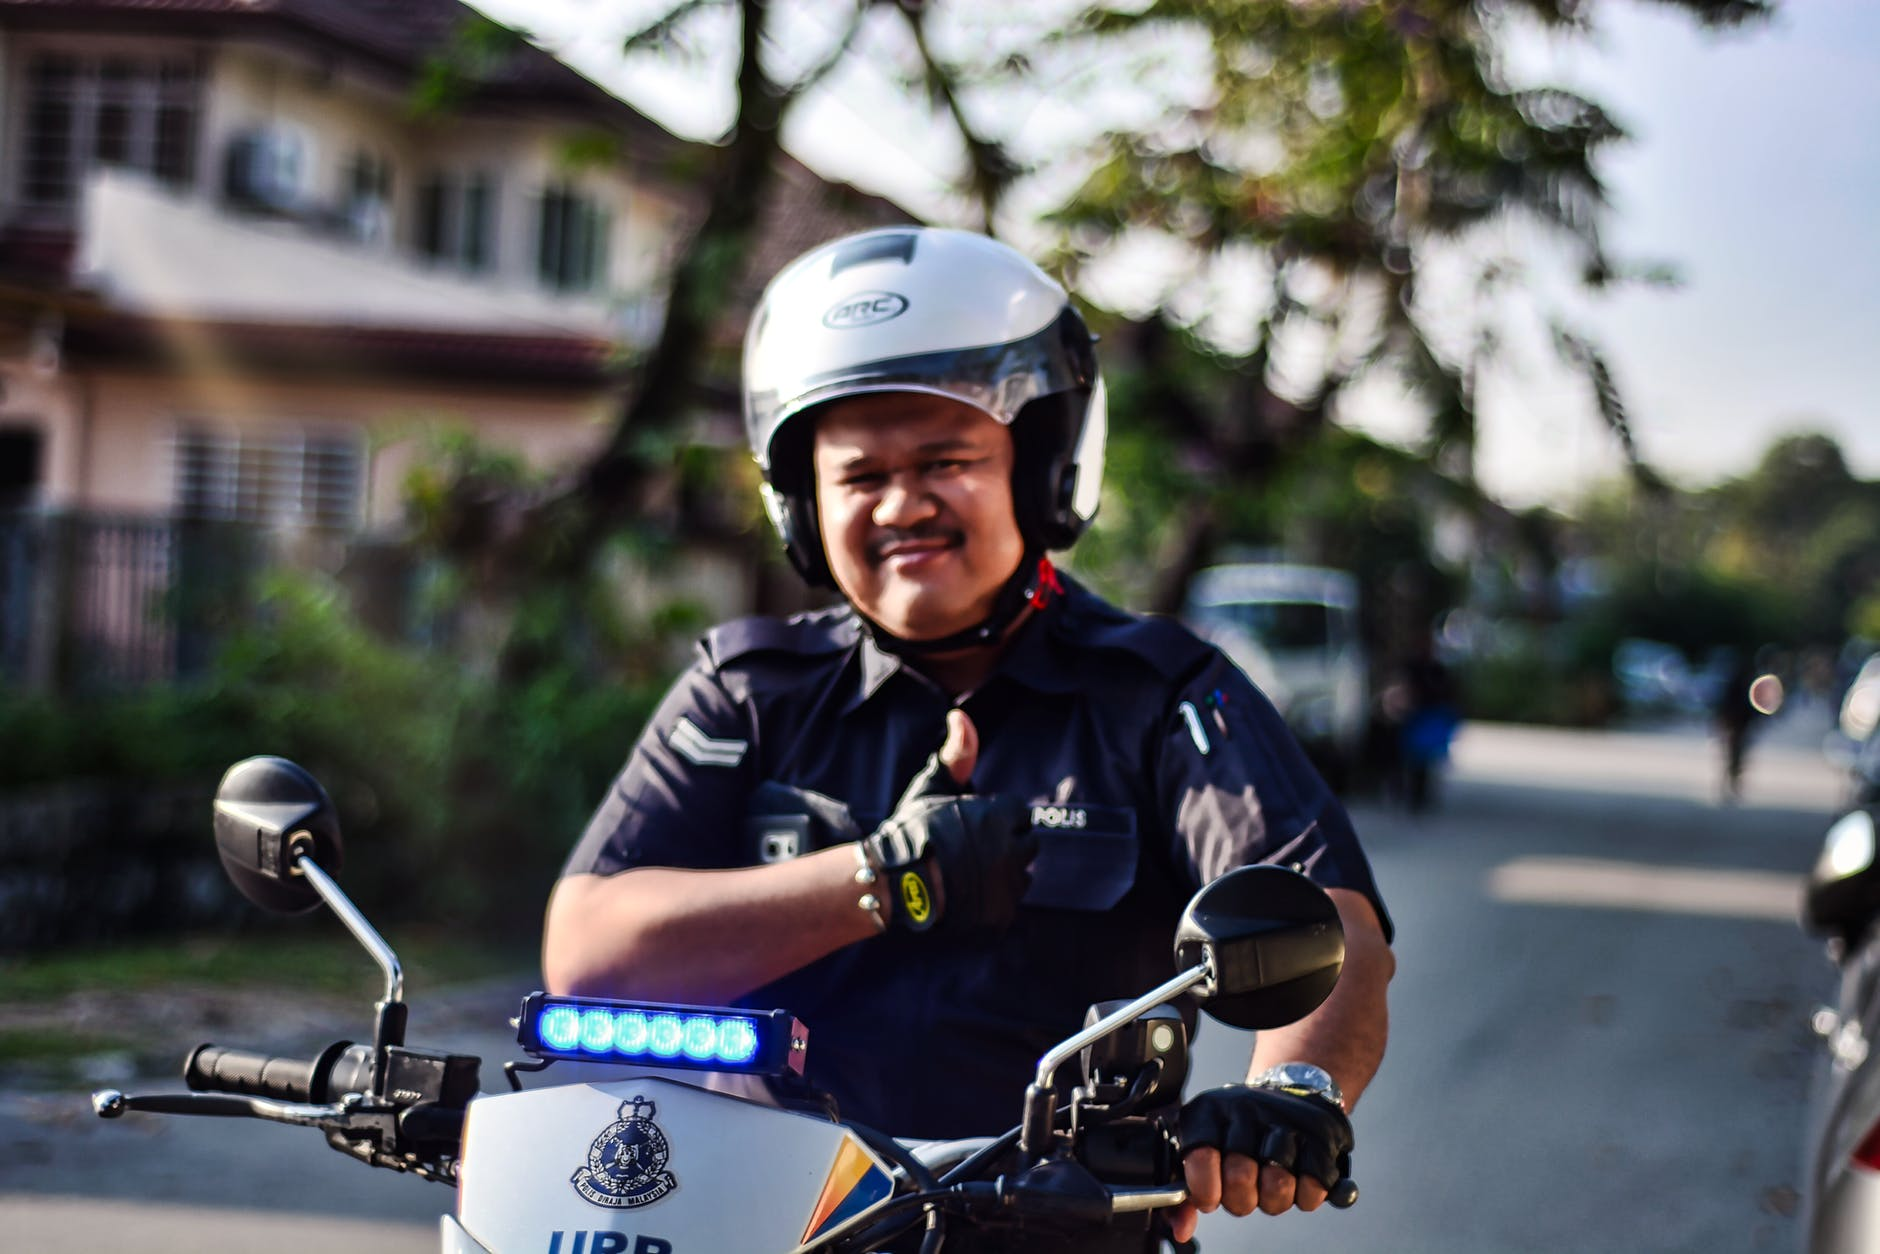helmet: (733, 249, 1099, 516)
